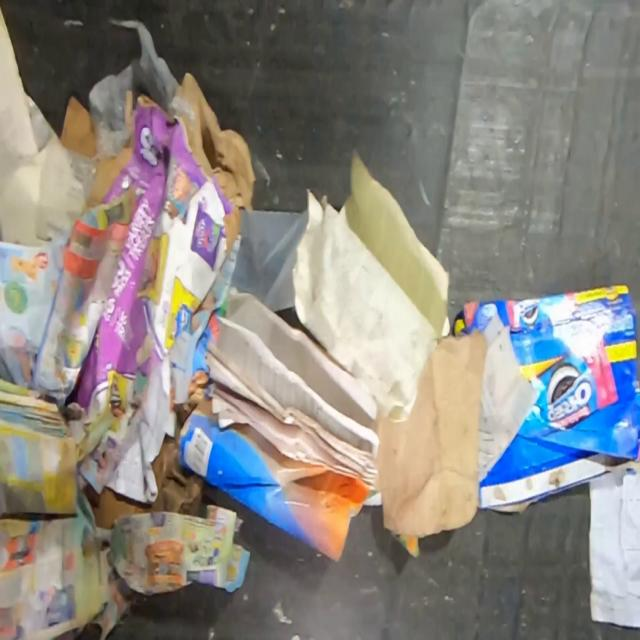cardboard: (64, 69, 258, 495), (452, 284, 640, 515), (373, 327, 487, 540), (82, 402, 206, 529), (58, 95, 94, 156)
soft_plastic: (61, 15, 179, 204), (227, 207, 308, 312)
